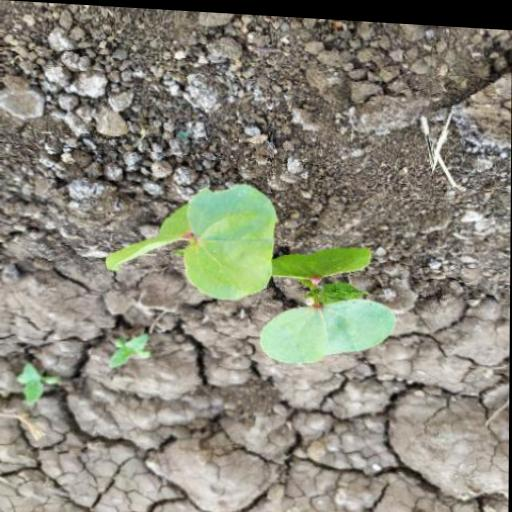weed: (103, 156, 400, 376)
